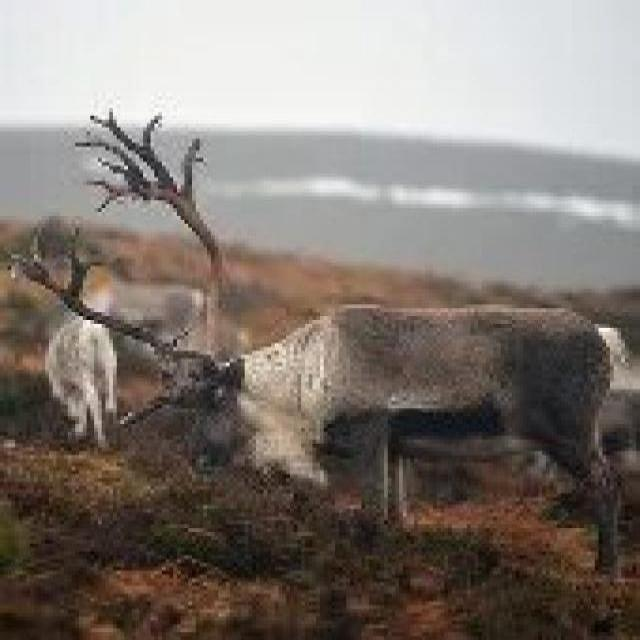deer: (130, 202, 600, 521)
